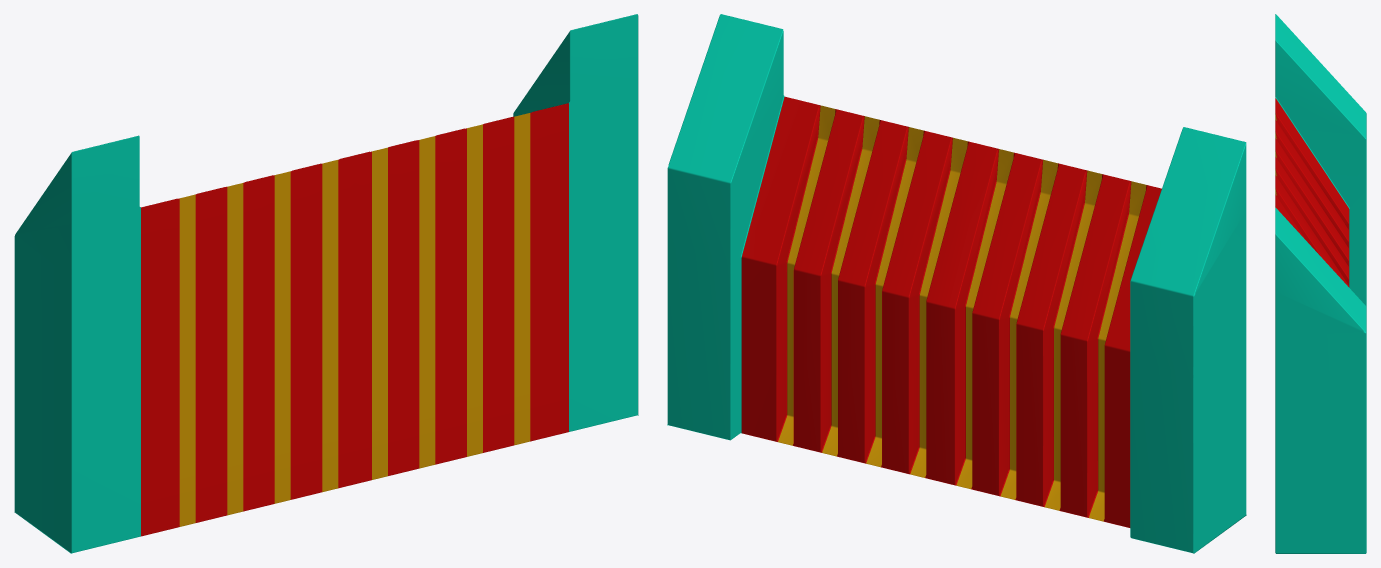
Rendered from radiator_uv.fbx.
The picture shows the model from 3 angles, left to right: view 1: azimuth 30°, elevation 25°; view 2: azimuth 150°, elevation 25°; view 3: azimuth 270°, elevation 25°; orthographic projection. The views are drawn at different scales.
Parts seen in each view (by area): view 1: radiator; view 2: radiator; view 3: radiator.
Part boxes in pixels (x1,y1,x2,y2): radiator: (14,14,638,553); radiator: (667,14,1246,553); radiator: (1275,14,1366,553).
Bounding box in the file's own units: 6.38 × 4.32 × 1.11.
